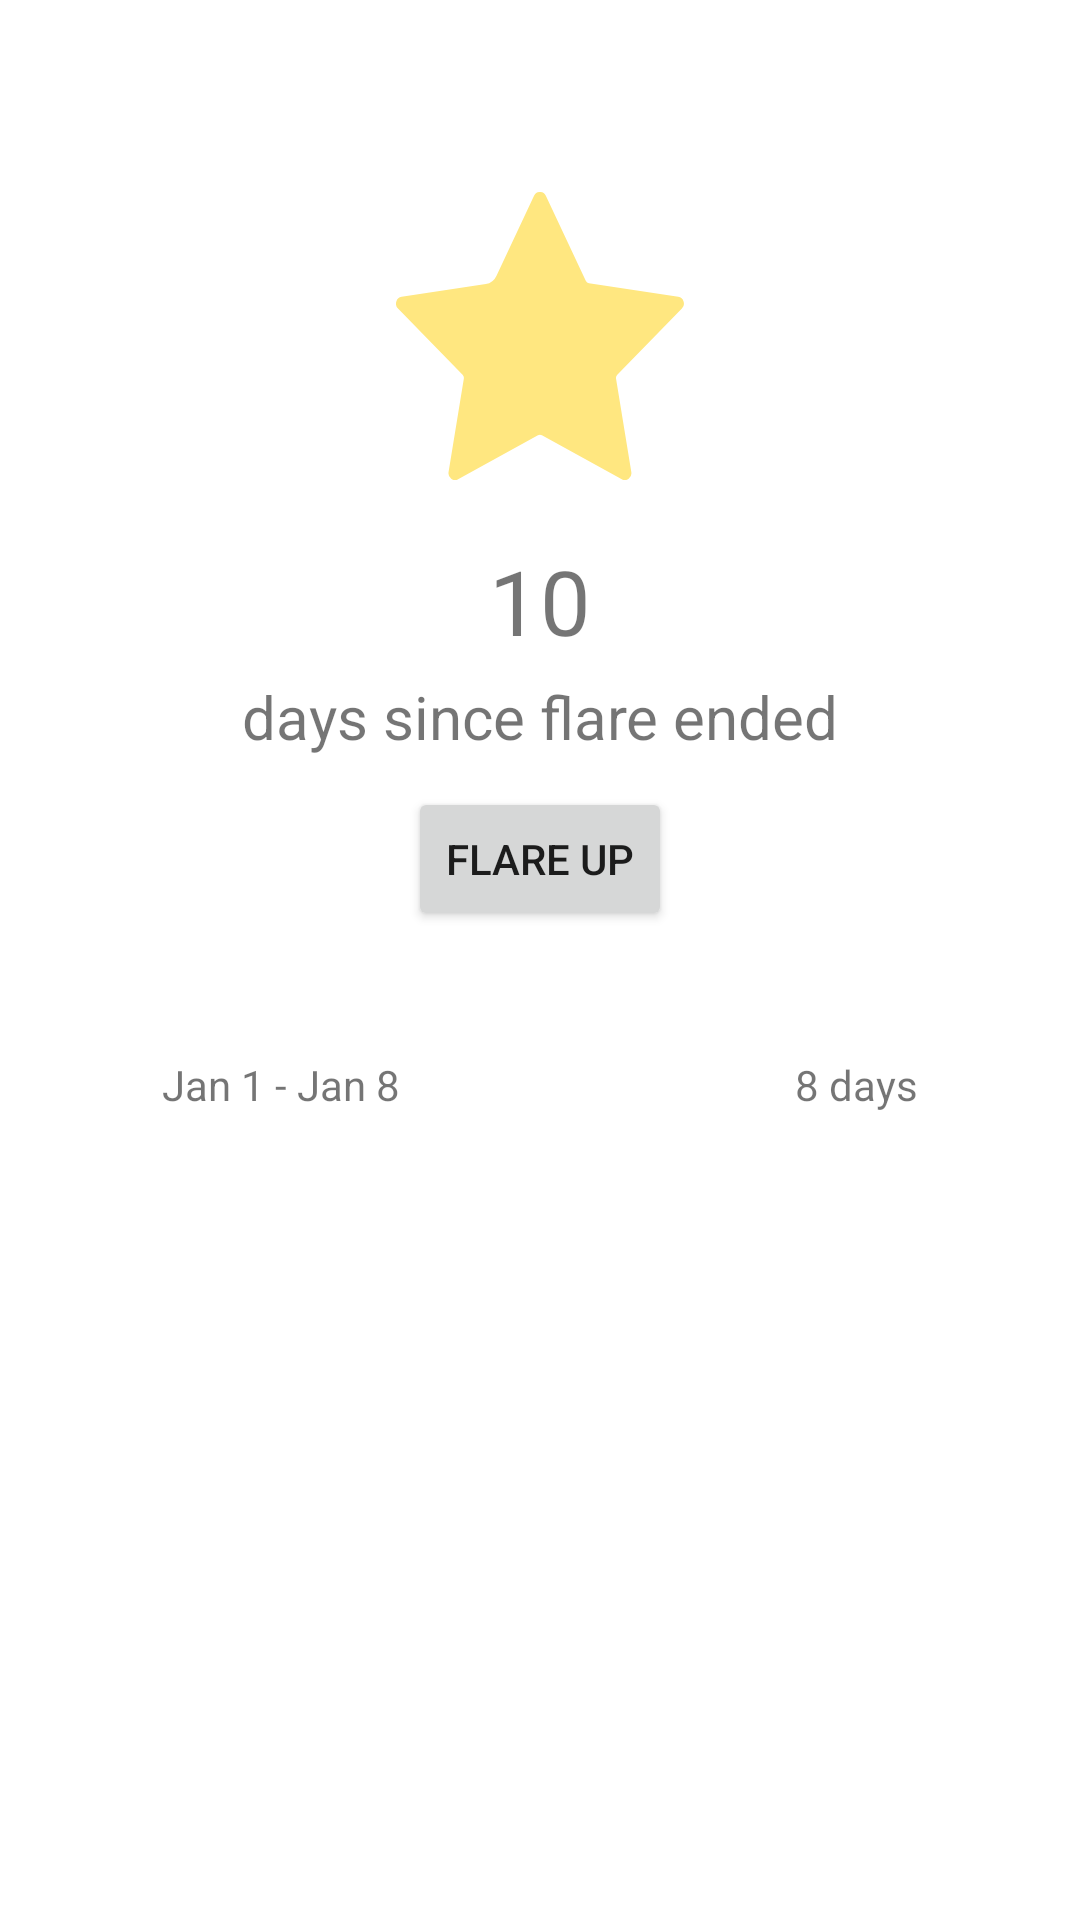

Locate icon controls on the screen. Image size 1080w x 1920h, boxes as (x1=x1, y1=y1, x2=x2, y2=y2).
aevus star nfocus: (x1=396, y1=192, x2=684, y2=480)
